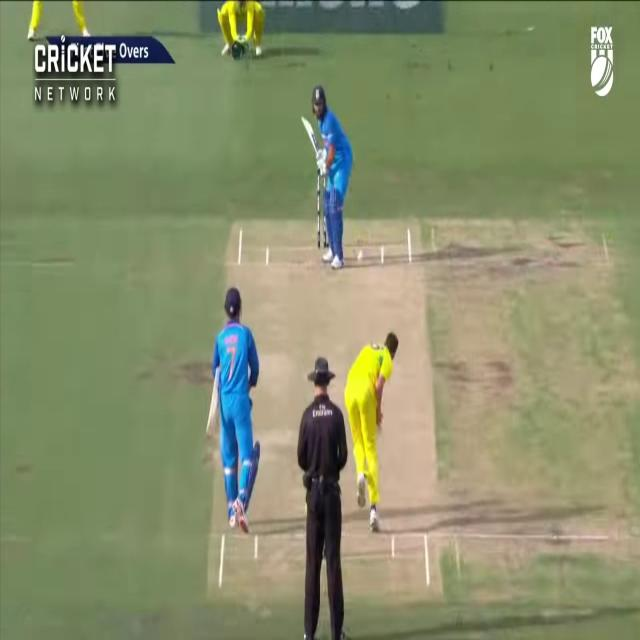ball: (358, 247, 365, 262)
stump: (317, 168, 326, 249), (323, 205, 327, 249)
